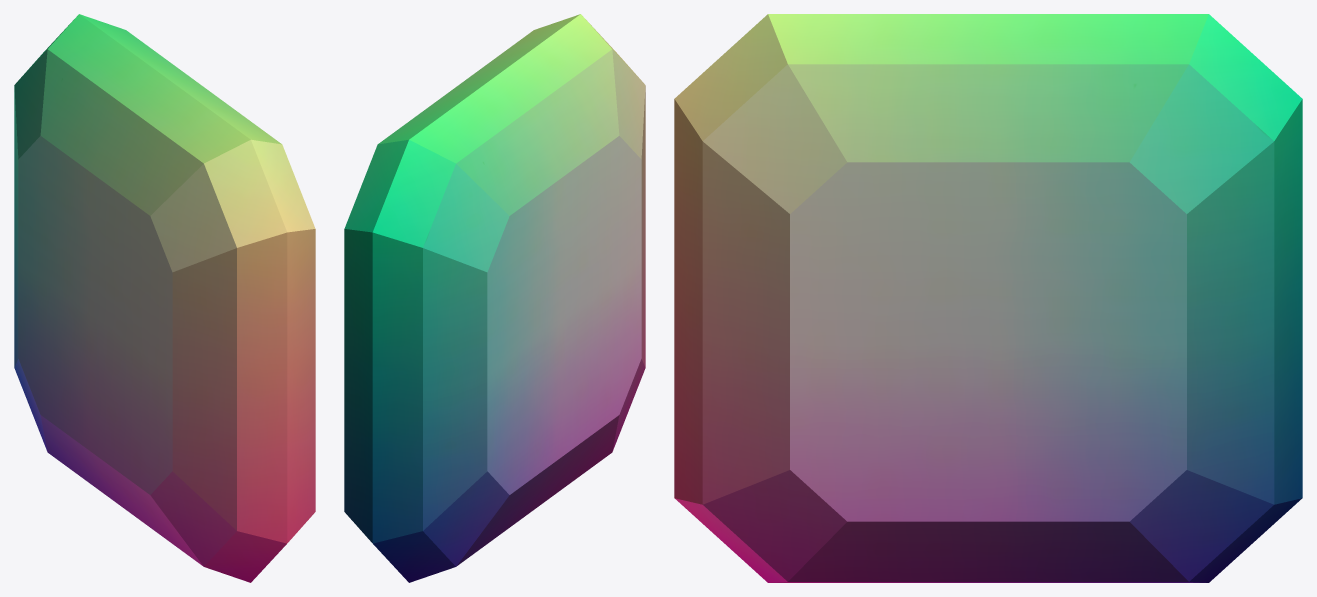
File: Diamond_3.fbx
The picture shows the model from 3 angles, left to right: view 1: azimuth 30°, elevation 25°; view 2: azimuth 150°, elevation 25°; view 3: azimuth 270°, elevation 25°; orthographic projection. The views are drawn at different scales.
Visible parts, largest first — view 1: Diamond_3; view 2: Diamond_3; view 3: Diamond_3.
Boxes of the visible parts, bbox=[...] form: Diamond_3: bbox=[14, 14, 315, 582]; Diamond_3: bbox=[344, 14, 645, 582]; Diamond_3: bbox=[674, 14, 1302, 582].
Size of the model in its own units: 38.33 by 117 by 117.
